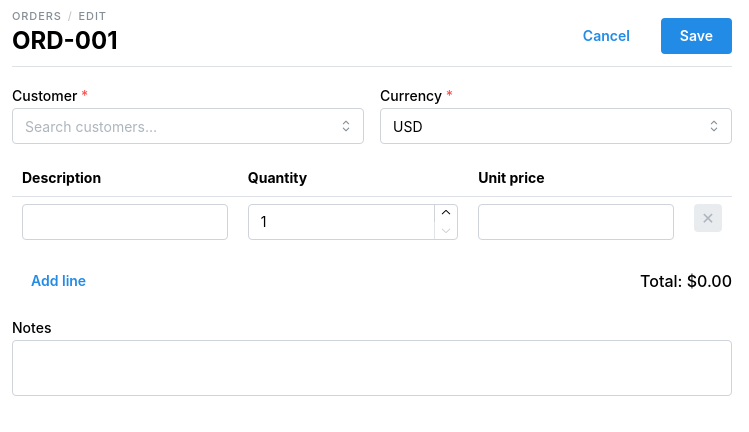
Scenario: OrderForm › rejects submission when no customer is selected
Type "Business cards" into the 3rd field.
click(125, 222); type("Business cards")  # box [22, 204, 228, 240]
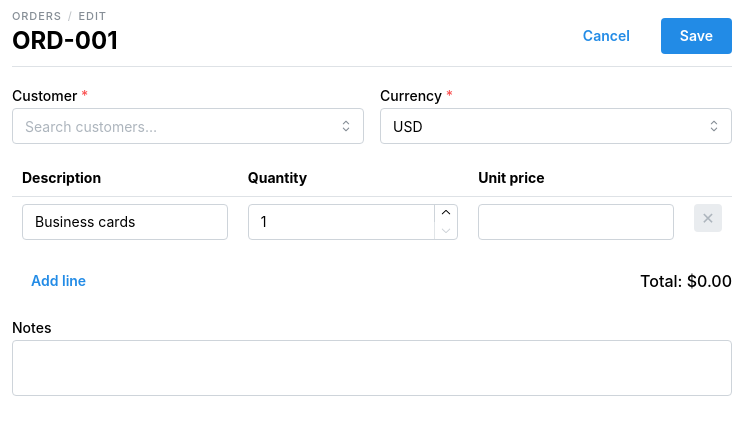
Type "10.00" into the 5th field.
click(576, 222); type("10.00")  # box [478, 204, 674, 240]
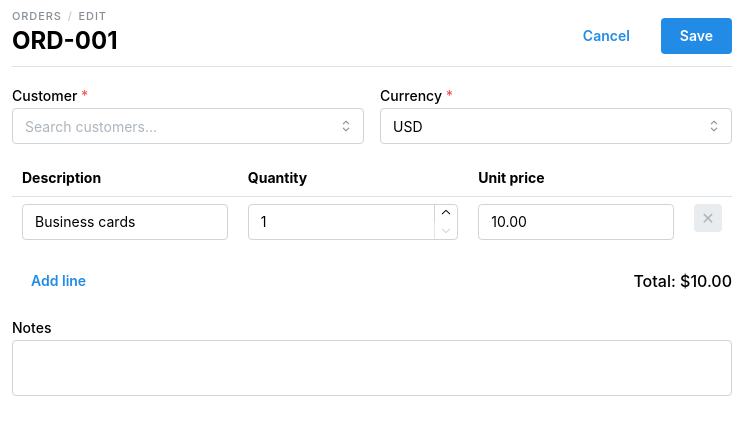
Click the button "Save".
click(696, 36)  # box [661, 18, 732, 54]
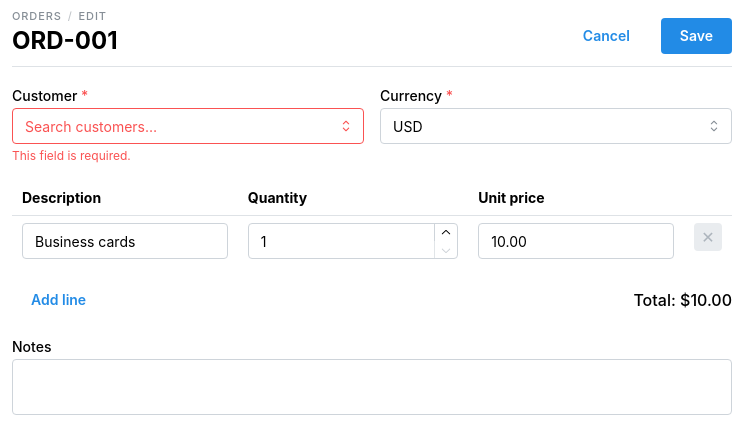
Check: the text "This field is required." is shown, box [12, 148, 131, 163]
